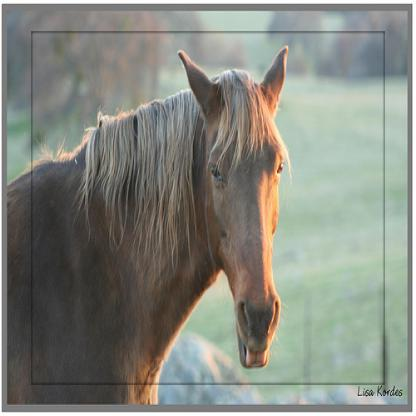horse: (7, 44, 291, 402)
